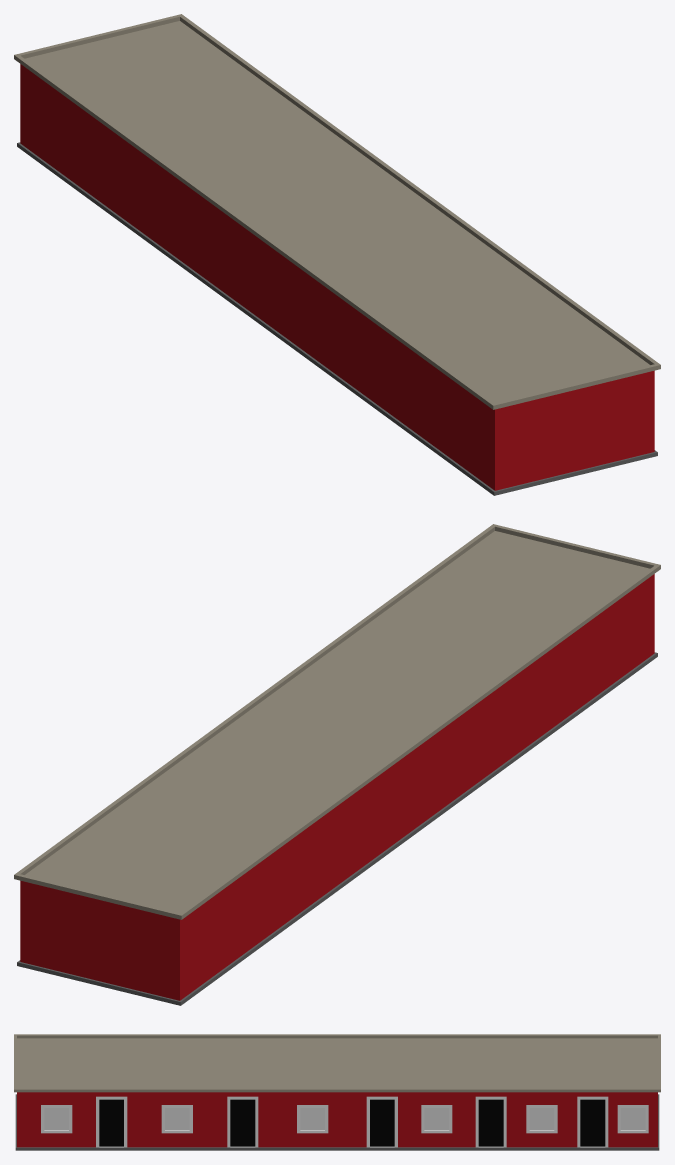
File: Flat shop.fbx
3 renders of one model, top to bottom at view 1: azimuth 30°, elevation 25°; view 2: azimuth 150°, elevation 25°; view 3: azimuth 270°, elevation 25°, orthographic. The views are drawn at different scales.
Parts seen in each view (by area): view 1: building_003; view 2: building_003; view 3: building_003.
Part boxes in pixels (x1,y1,x2,y2): building_003: (14,14,660,495); building_003: (14,524,660,1005); building_003: (14,1034,660,1150).
Size of the model in its own units: 420 by 219 by 2080.
